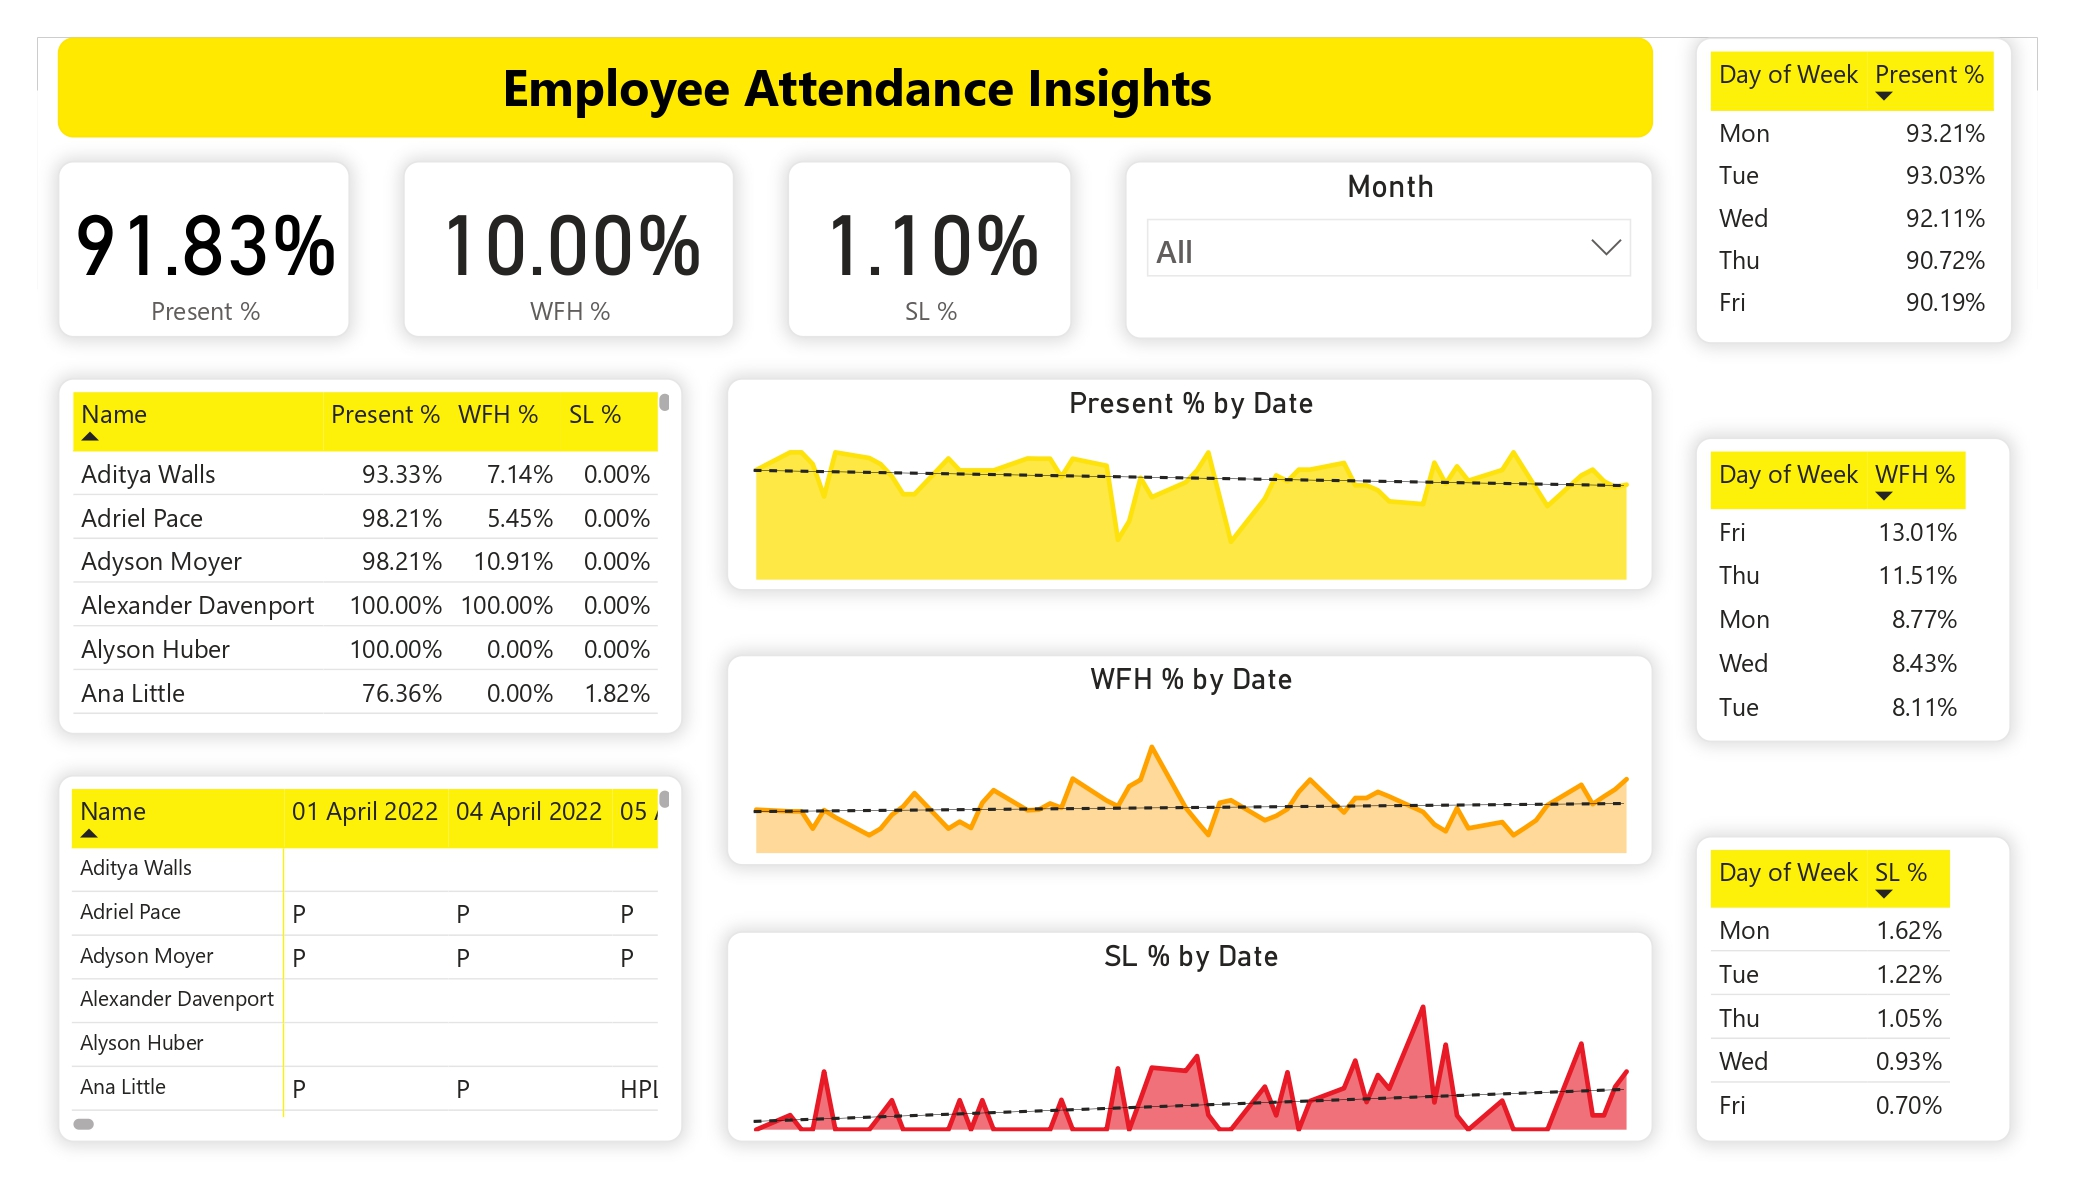

Layout of this report page (visuals, bound fields, positions):
{"tool":"powerbi","page":{"name":"Page 1","canvas":[1280,720],"ordinal":0},"visuals":[{"type":"card","fields":{"Values":["Measure.Present %"]},"box":[12.7,78.9,187.3,112.7],"z":0},{"type":"slicer","title":"Month","fields":{"Values":["Finall Data.Month"]},"box":[695.6,79.4,338.2,113.2],"z":1000},{"type":"card","fields":{"Values":["Measure.WFH %"]},"box":[234.3,78.9,211.3,112.7],"z":2000},{"type":"card","fields":{"Values":["Measure.SL %"]},"box":[479.8,78.9,181.7,112.7],"z":3000},{"type":"tableEx","fields":{"Values":["Finall Data.Name","Measure.Present %","Measure.WFH %","Measure.SL %"]},"box":[12.7,217.6,400,228.2],"z":4000},{"type":"pivotTable","fields":{"Rows":["Finall Data.Name"],"Values":["Min(Finall Data.Value)"],"Columns":["Finall Data.Date"]},"box":[12.7,471.8,400,235.2],"z":5000},{"type":"areaChart","fields":{"Y":["Measure.Present %"],"Category":["Finall Data.Date"]},"box":[440.8,218.3,593,135.2],"z":6000},{"type":"areaChart","fields":{"Y":["Measure.WFH %"],"Category":["Finall Data.Date"]},"box":[440.8,395.1,593,135.2],"z":7000},{"type":"areaChart","fields":{"Y":["Measure.SL %"],"Category":["Finall Data.Date"]},"box":[440.8,571.8,593,135.2],"z":8000},{"type":"tableEx","fields":{"Values":["Finall Data.Day of Week","Measure.Present %"]},"box":[1060,22.8,201.8,194.5],"z":9000,"group":"g1"},{"type":"textbox","box":[13.8,0,1020,64.6],"z":10000},{"type":"tableEx","fields":{"Values":["Finall Data.Day of Week","Measure.WFH %"]},"box":[1060.6,261.5,202.8,195.8],"z":11000,"group":"g1"},{"type":"tableEx","fields":{"Values":["Finall Data.Day of Week","Measure.SL %"]},"box":[1060.6,501.3,202.8,195.8],"z":12000,"group":"g1"},{"type":"group","id":"g1","title":"Group 1","box":[1060,22.8,203.4,674.3],"z":12001}]}

Visuals, with their boxes on the page's 1280x720 design canvas (x1, y1, x2, y2). These are canvas units, not pixel positions in the 2075x1200 screenshot, which may show the page scaled, cropped or inside an application window:
card - Measure.Present %: [left=13, top=79, right=200, bottom=192]
"Month" slicer: [left=696, top=79, right=1034, bottom=193]
card - Measure.WFH %: [left=234, top=79, right=446, bottom=192]
card - Measure.SL %: [left=480, top=79, right=662, bottom=192]
tableEx - Finall Data.Name x Measure.Present %: [left=13, top=218, right=413, bottom=446]
pivotTable - Finall Data.Name x Min(Finall Data.Value): [left=13, top=472, right=413, bottom=707]
areaChart - Measure.Present % x Finall Data.Date: [left=441, top=218, right=1034, bottom=354]
areaChart - Measure.WFH % x Finall Data.Date: [left=441, top=395, right=1034, bottom=530]
areaChart - Measure.SL % x Finall Data.Date: [left=441, top=572, right=1034, bottom=707]
tableEx - Finall Data.Day of Week x Measure.Present %: [left=1060, top=23, right=1262, bottom=217]
textbox: [left=14, top=0, right=1034, bottom=65]
tableEx - Finall Data.Day of Week x Measure.WFH %: [left=1061, top=262, right=1263, bottom=457]
tableEx - Finall Data.Day of Week x Measure.SL %: [left=1061, top=501, right=1263, bottom=697]
"Group 1" group: [left=1060, top=23, right=1263, bottom=697]
